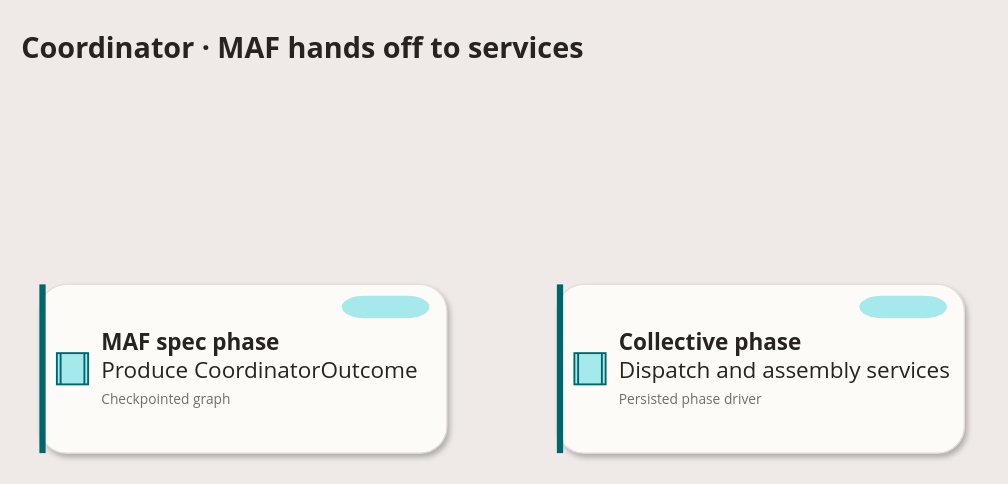
The diagram is 1008 pixels wide and 484 high, and some of its shapes have lost their labels. The shapes that lost their labels are listed below. From the top down, each one's centre as x and y in pixels, then its label:
At (385,306): "SCOPE".
At (902,306): "RESULT".
